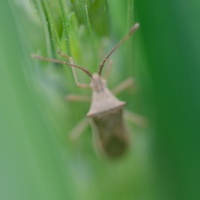insect: (32, 23, 138, 157)
